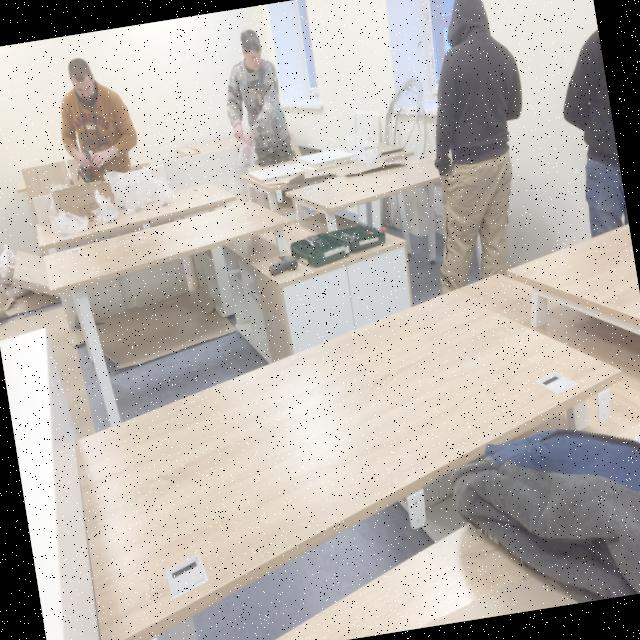NoHelmet: (445, 1, 494, 46), (66, 55, 101, 109), (238, 27, 268, 73)
